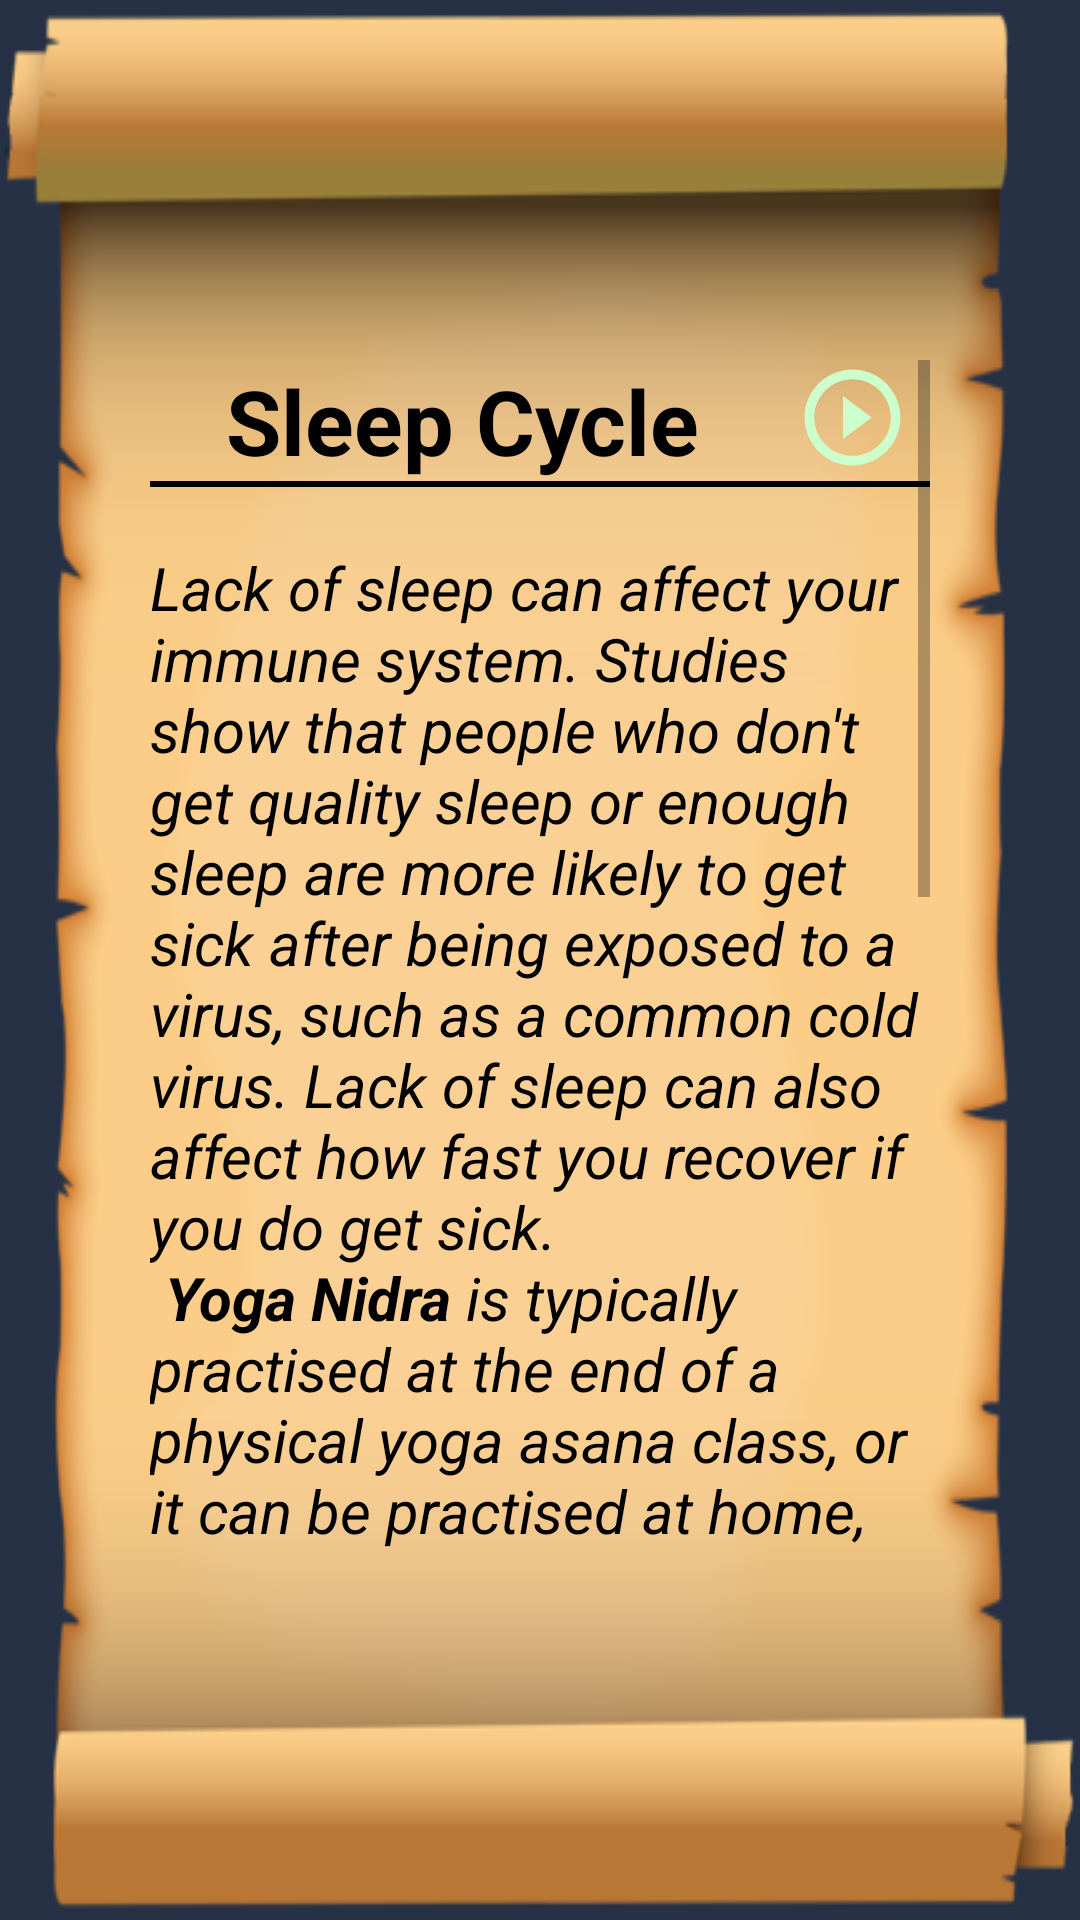

Where to tap for icons on this 1080px×1920px app screen, as point (x, y):
play: point (852, 417)
